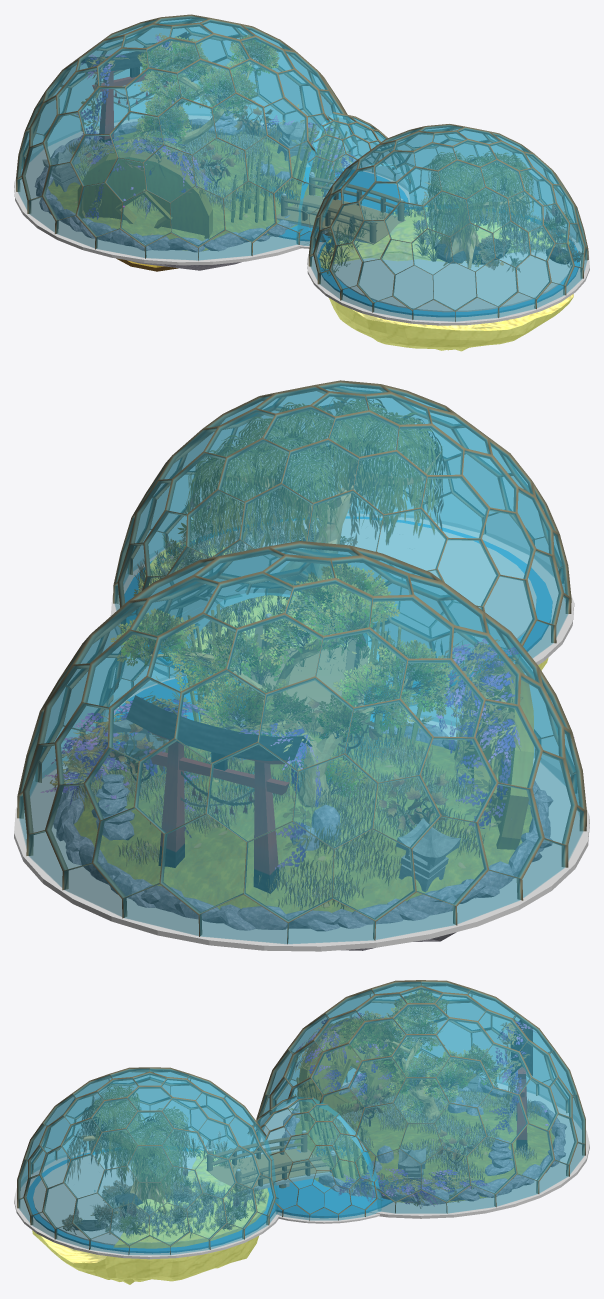
The model's file is Garden.glb.
3 renders of one model, top to bottom at view 1: azimuth 30°, elevation 25°; view 2: azimuth 150°, elevation 25°; view 3: azimuth 270°, elevation 25°, orthographic. The views are drawn at different scales.
Visible parts, largest first — view 1: Dome_Panels.002, Dome_Panels.003, Dome_Frame.007, Base_Platform.003, Dome_Frame.008, Base, Cylinder.001, Icosphere, Base_Platform.002, Dome_Panels.001, Base_Platform.004, Plane.109 (+31 smaller); view 2: Dome_Panels.002, Dome_Panels.003, Dome_Frame.007, Icosphere, Dome_Frame.008, Base_Platform.002, Base_Platform.003, Cube, Plane.109, Cylinder.001, Base_Platform.004, PanelSup (+65 smaller); view 3: Dome_Panels.002, Dome_Panels.003, Dome_Panels.001, Dome_Frame.007, Dome_Frame.008, Base, Icosphere, Base_Platform.002, Base_Platform.003, Cylinder.001, 柱体.001, Base_Platform.004 (+37 smaller).
Boxes of the visible parts, bbox=[...] form: Dome_Panels.002: bbox=[17, 16, 356, 260]; Dome_Panels.003: bbox=[310, 125, 587, 321]; Dome_Frame.007: bbox=[16, 14, 357, 260]; Base_Platform.003: bbox=[333, 209, 571, 312]; Dome_Frame.008: bbox=[308, 124, 588, 321]; Base: bbox=[319, 207, 573, 351]; Cylinder.001: bbox=[77, 150, 212, 271]; Icosphere: bbox=[48, 128, 323, 270]; Base_Platform.002: bbox=[14, 114, 356, 265]; Dome_Panels.001: bbox=[296, 113, 408, 245]; Base_Platform.004: bbox=[307, 206, 589, 325]; Plane.109: bbox=[83, 135, 211, 219]; Dome_Panels.002: bbox=[19, 544, 583, 943]; Dome_Panels.003: bbox=[114, 382, 568, 683]; Dome_Frame.007: bbox=[17, 541, 586, 944]; Icosphere: bbox=[74, 728, 532, 950]; Dome_Frame.008: bbox=[113, 380, 571, 686]; Base_Platform.002: bbox=[14, 711, 589, 951]; Base_Platform.003: bbox=[146, 518, 536, 685]; Cube: bbox=[126, 695, 312, 893]; Plane.109: bbox=[436, 640, 520, 826]; Cylinder.001: bbox=[454, 663, 534, 849]; Base_Platform.004: bbox=[110, 511, 574, 705]; PanelSup: bbox=[256, 647, 369, 729]; Dome_Panels.002: bbox=[259, 981, 584, 1213]; Dome_Panels.003: bbox=[18, 1068, 278, 1254]; Dome_Panels.001: bbox=[246, 1096, 381, 1220]; Dome_Frame.007: bbox=[256, 980, 585, 1213]; Dome_Frame.008: bbox=[17, 1067, 278, 1254]; Base: bbox=[32, 1150, 269, 1284]; Icosphere: bbox=[294, 1086, 554, 1204]; Base_Platform.002: bbox=[253, 1074, 589, 1218]; Base_Platform.003: bbox=[33, 1150, 263, 1245]; Cylinder.001: bbox=[297, 1018, 404, 1121]; 柱体.001: bbox=[267, 1146, 405, 1218]; Base_Platform.004: bbox=[14, 1142, 281, 1259].
Bounding box in the file's own units: 18.23 × 9.69 × 24.2.
139 materials, 109 textured.
